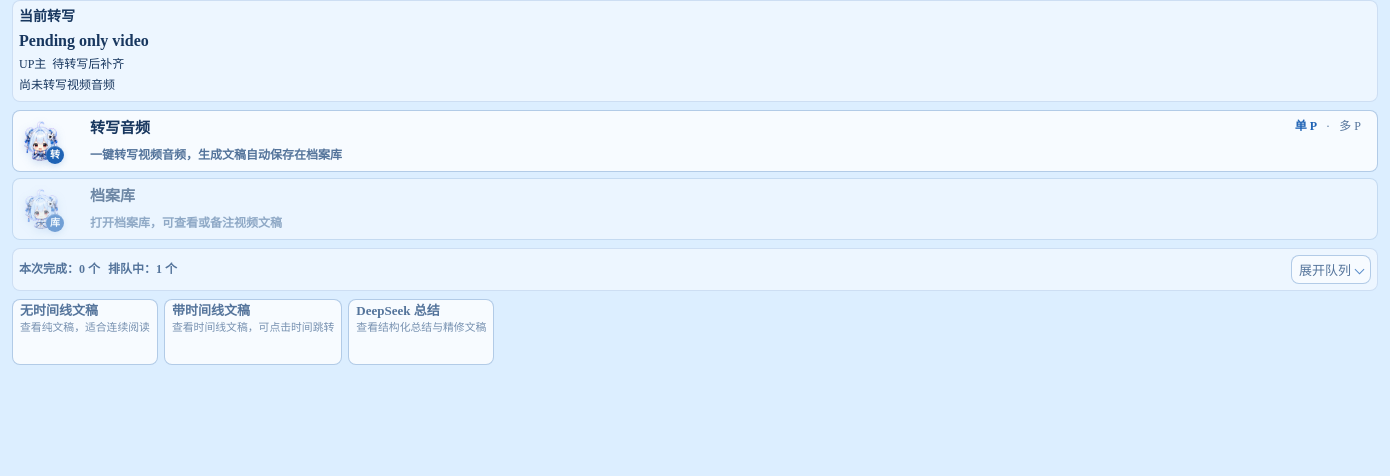
Scenario: VideoNotesPanel transcription queue › keeps queue statistics and the disclosure available when only work is waiting
Check: the element named "转写状态" shows "本次完成：0 个", box [12,248,1378,291]
Check: the element named "转写状态" shows "排队中：1 个", box [108,262,177,276]
Click the button with aria-label "展开转写队列".
click(1331, 269)  # box [1291,255,1371,284]
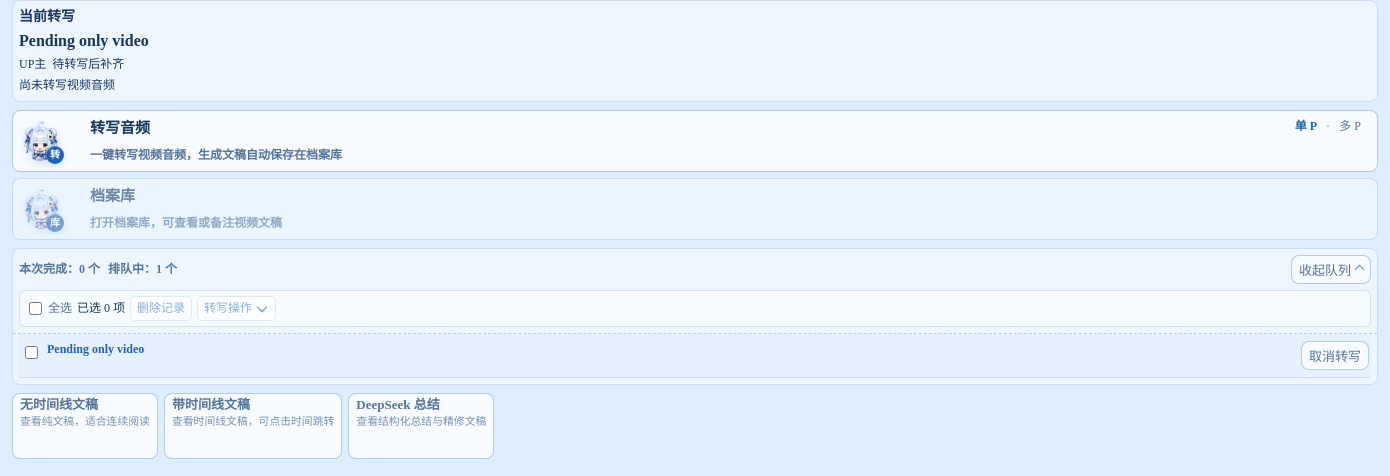
Check: the button with aria-label "等待转写：Pending only video" is shown, box [47,341,1295,358]
